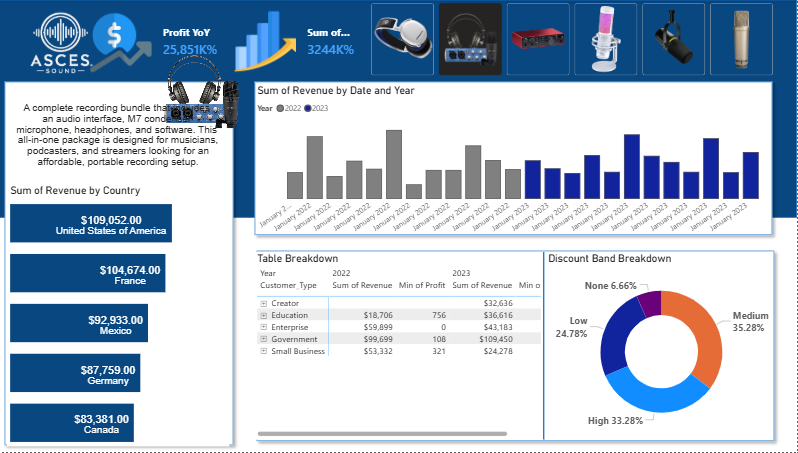

This screenshot's page, from the dashboard's own definition file:
{"tool":"powerbi","page":{"name":"Page 1","canvas":[1280,720],"ordinal":0},"visuals":[{"type":"shape","box":[9.5,0,1270.5,346.5],"z":0},{"type":"shape","box":[9.5,121.7,382.3,597.2],"z":1000},{"type":"shape","box":[407,121.7,842.6,262.5],"z":2000},{"type":"shape","box":[410.8,389.9,842.6,321.4],"z":3000},{"type":"image","box":[34.2,11.4,138.8,110.3],"z":4000},{"type":"advancedSlicerVisual","fields":{"Values":["Query1.Image_url"]},"box":[597.2,0,652.4,125],"z":5000},{"type":"advancedSlicerVisual","fields":{"Values":["Query1.Product"]},"box":[254.9,81.8,152.2,129.3],"z":6000},{"type":"card","fields":{"Values":["Min(Query1.Description)"]},"box":[22.8,116,353.8,194],"z":7000},{"type":"clusteredBarChart","fields":{"Category":["Query1.Country"],"Y":["Sum(Query1.Revenue)"]},"box":[22.8,292.9,353.8,418.4],"z":8000},{"type":"columnChart","fields":{"Y":["Sum(Query1.Revenue)"],"Series":["Query1.Year"],"Category":["Query1.Date"]},"box":[416.5,133.1,821.6,251.1],"z":9000},{"type":"donutChart","title":"Discount Band Breakdown","fields":{"Category":["Query1.Discount_Band"],"Y":["Sum(Query1.Revenue)"]},"box":[878.7,401.3,370.9,298.6],"z":10000},{"type":"pivotTable","title":"Table Breakdown","fields":{"Rows":["Query1.Customer_Type","Query1.Product"],"Columns":["Query1.Year"],"Values":["Sum(Query1.Revenue)","Min(Query1.Profit)"]},"box":[416.5,401.3,462.2,298.6],"z":11000},{"type":"shape","box":[728.4,401.3,298.6,298.6],"z":12000},{"type":"cardVisual","fields":{"Data":["Query1.Profit YoY","Sum(Query1.Sale_Price)"]},"box":[130.4,0,487.5,132.4],"z":12001}]}

Visuals, with their boxes in screenshot pixels (x1, y1, x2, y2), scaled from the page's 1280x720 canvas onto the 798x453 screenshot:
shape: <region>6, 0, 797, 218</region>
shape: <region>6, 77, 244, 452</region>
shape: <region>254, 77, 779, 242</region>
shape: <region>256, 245, 781, 448</region>
image: <region>21, 7, 108, 77</region>
advancedSlicerVisual - Query1.Image_url: <region>372, 0, 779, 79</region>
advancedSlicerVisual - Query1.Product: <region>159, 51, 254, 133</region>
card - Min(Query1.Description): <region>14, 73, 235, 195</region>
clusteredBarChart - Query1.Country x Sum(Query1.Revenue): <region>14, 184, 235, 448</region>
columnChart - Sum(Query1.Revenue) x Query1.Year: <region>260, 84, 772, 242</region>
"Discount Band Breakdown" donutChart: <region>548, 252, 779, 440</region>
"Table Breakdown" pivotTable: <region>260, 252, 548, 440</region>
shape: <region>454, 252, 640, 440</region>
cardVisual - Query1.Profit YoY x Sum(Query1.Sale_Price): <region>81, 0, 385, 83</region>
